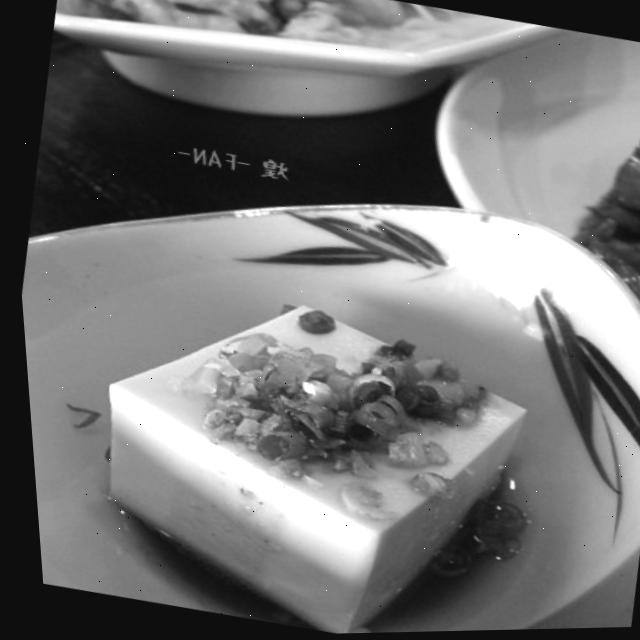豆腐料理: (58, 256, 556, 639)
